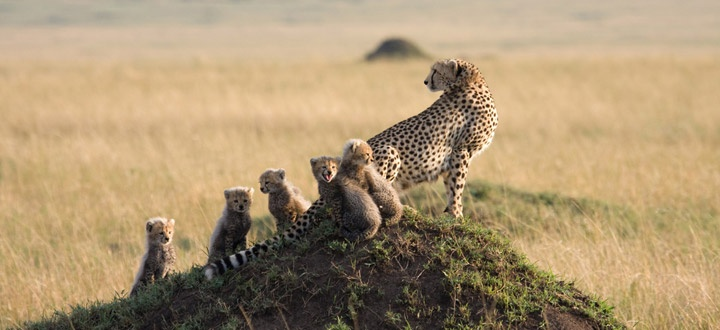leopard: (204, 54, 500, 276), (308, 153, 384, 242), (338, 138, 406, 224), (128, 211, 181, 295), (208, 183, 255, 265), (256, 166, 310, 229)
